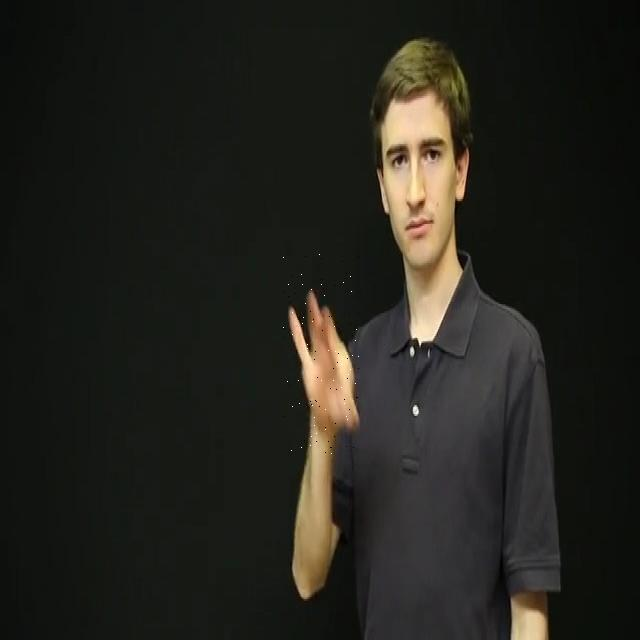french fries: (283, 254, 359, 456)
